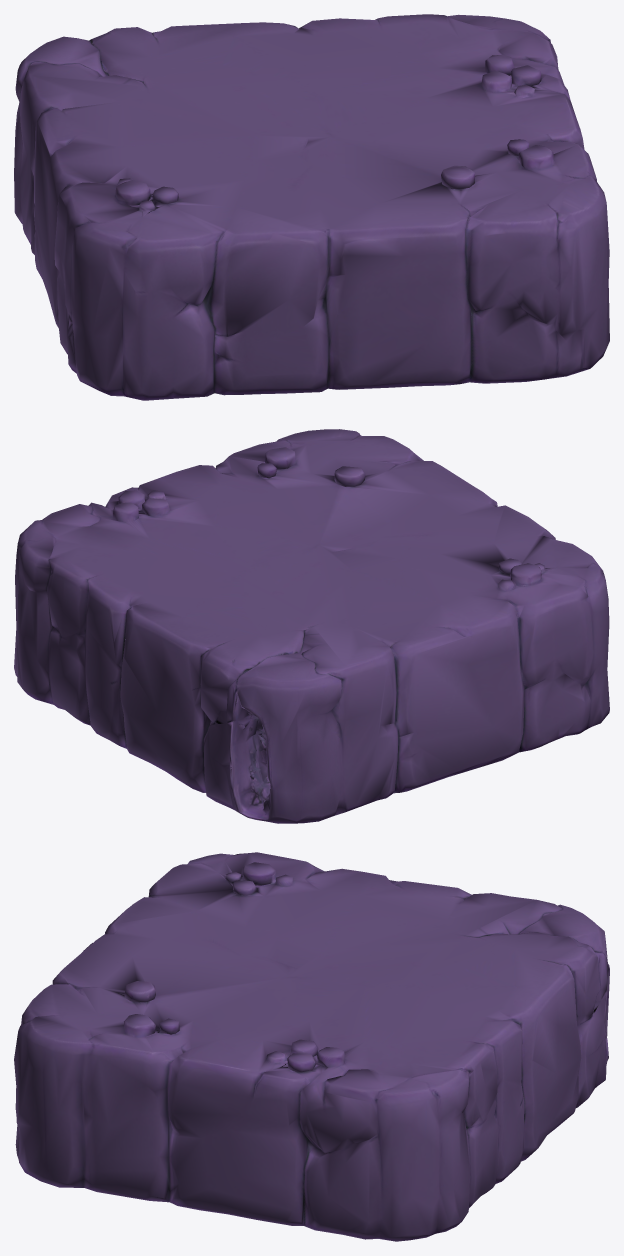
File: bloque_de_arcilla_purpura.glb
3 renders of one model, top to bottom at view 1: azimuth 30°, elevation 25°; view 2: azimuth 150°, elevation 25°; view 3: azimuth 270°, elevation 25°, orthographic. The views are drawn at different scales.
Parts seen in each view (by area): view 1: bloque_de_arcilla_purpura; view 2: bloque_de_arcilla_purpura; view 3: bloque_de_arcilla_purpura.
Boxes of the visible parts, left/top/right/bottom form: bloque_de_arcilla_purpura: left=14, top=14, right=609, bottom=400; bloque_de_arcilla_purpura: left=14, top=429, right=609, bottom=823; bloque_de_arcilla_purpura: left=14, top=852, right=609, bottom=1241.
Size of what is drawn, in the model's own units: 3.41 by 0.9976 by 3.4.
Materials: 1 (1 with a texture image).
